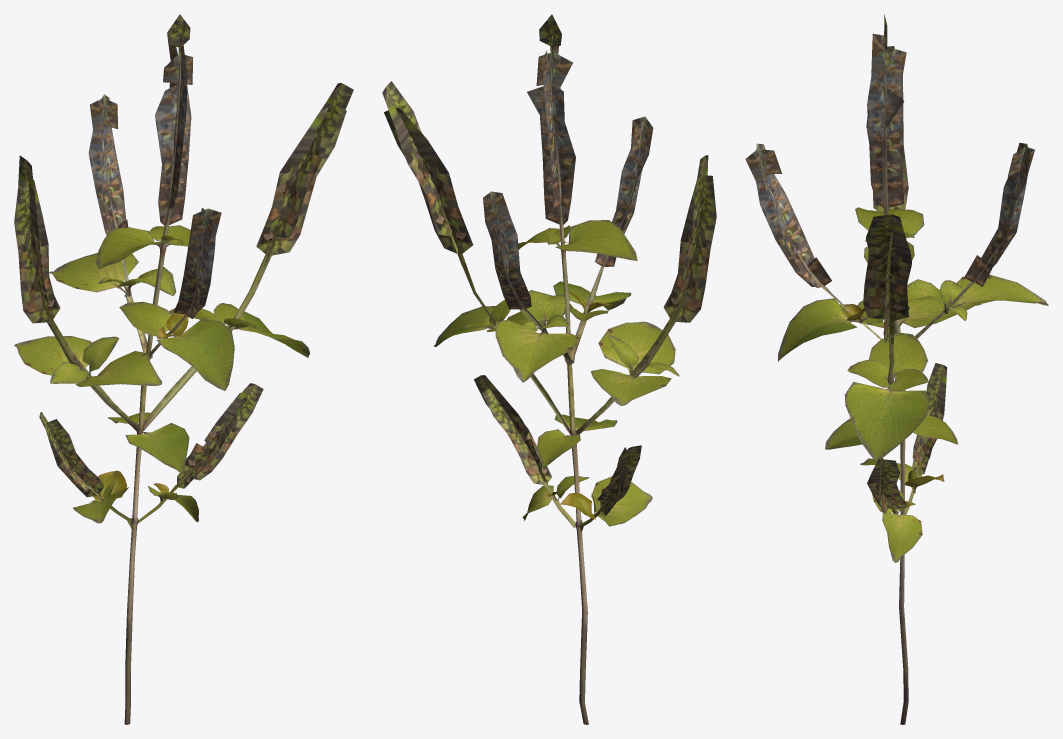
Rendered from shrub_03.glb.
3 views of the same model, side by side, from view 1: azimuth 30°, elevation 25°; view 2: azimuth 150°, elevation 25°; view 3: azimuth 270°, elevation 25° (orthographic). The views are drawn at different scales.
Parts seen in each view (by area): view 1: shrub_03_a; view 2: shrub_03_a; view 3: shrub_03_a.
Boxes of the visible parts, box(x1,y1,x2,y2) form: shrub_03_a: box(14, 14, 353, 724); shrub_03_a: box(382, 14, 716, 724); shrub_03_a: box(745, 14, 1048, 724).
Bounding box in the file's own units: 0.249 × 0.5 × 0.1877.
1 material, 1 textured.
